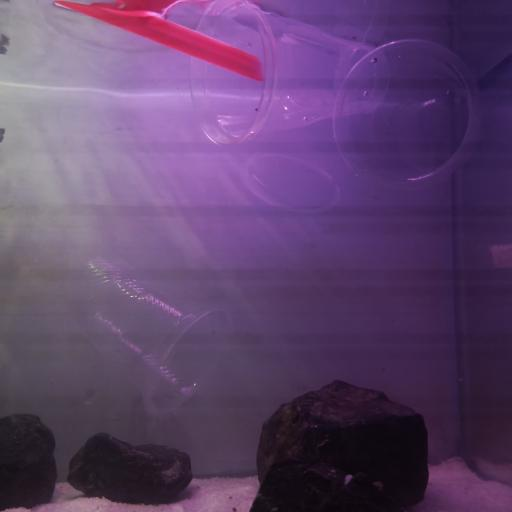plastic_cup: (189, 0, 391, 149), (64, 261, 234, 417), (331, 35, 483, 196), (240, 87, 341, 211)
plastic_straw: (55, 0, 266, 82)
